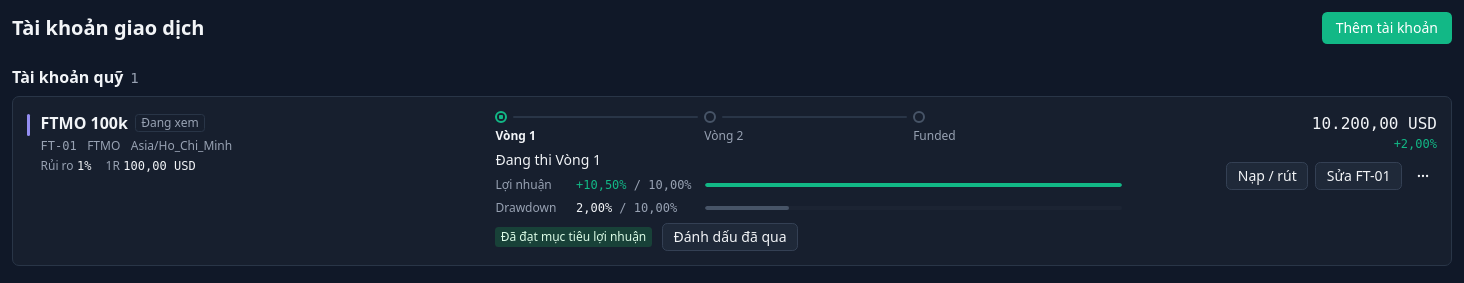
reaching the target shows a Mark passed button next to the hint
Expected: the text "Đã đạt mục tiêu lợi nhuận" is shown, [496,227,652,247]
Click the button "Đánh dấu đã qua". click: click(730, 237)
box: [662,223,798,251]
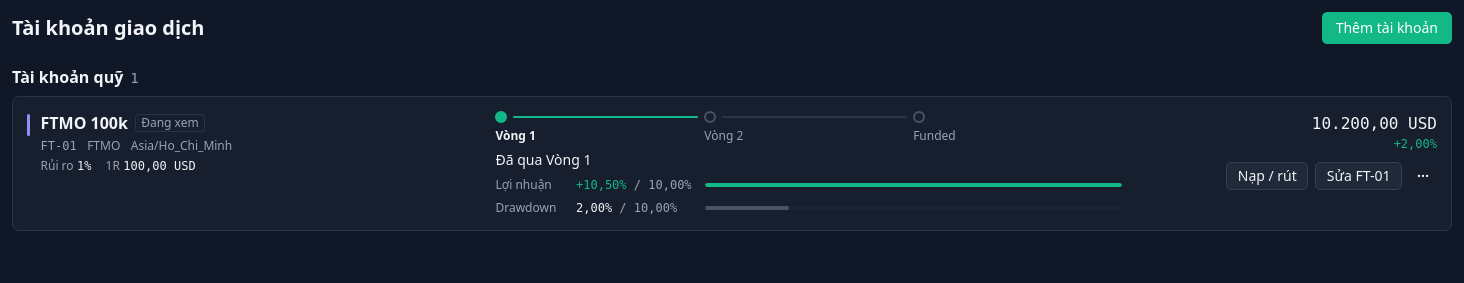
Expected: the text "Đã qua Vòng 1" is shown, [496,150,592,169]
